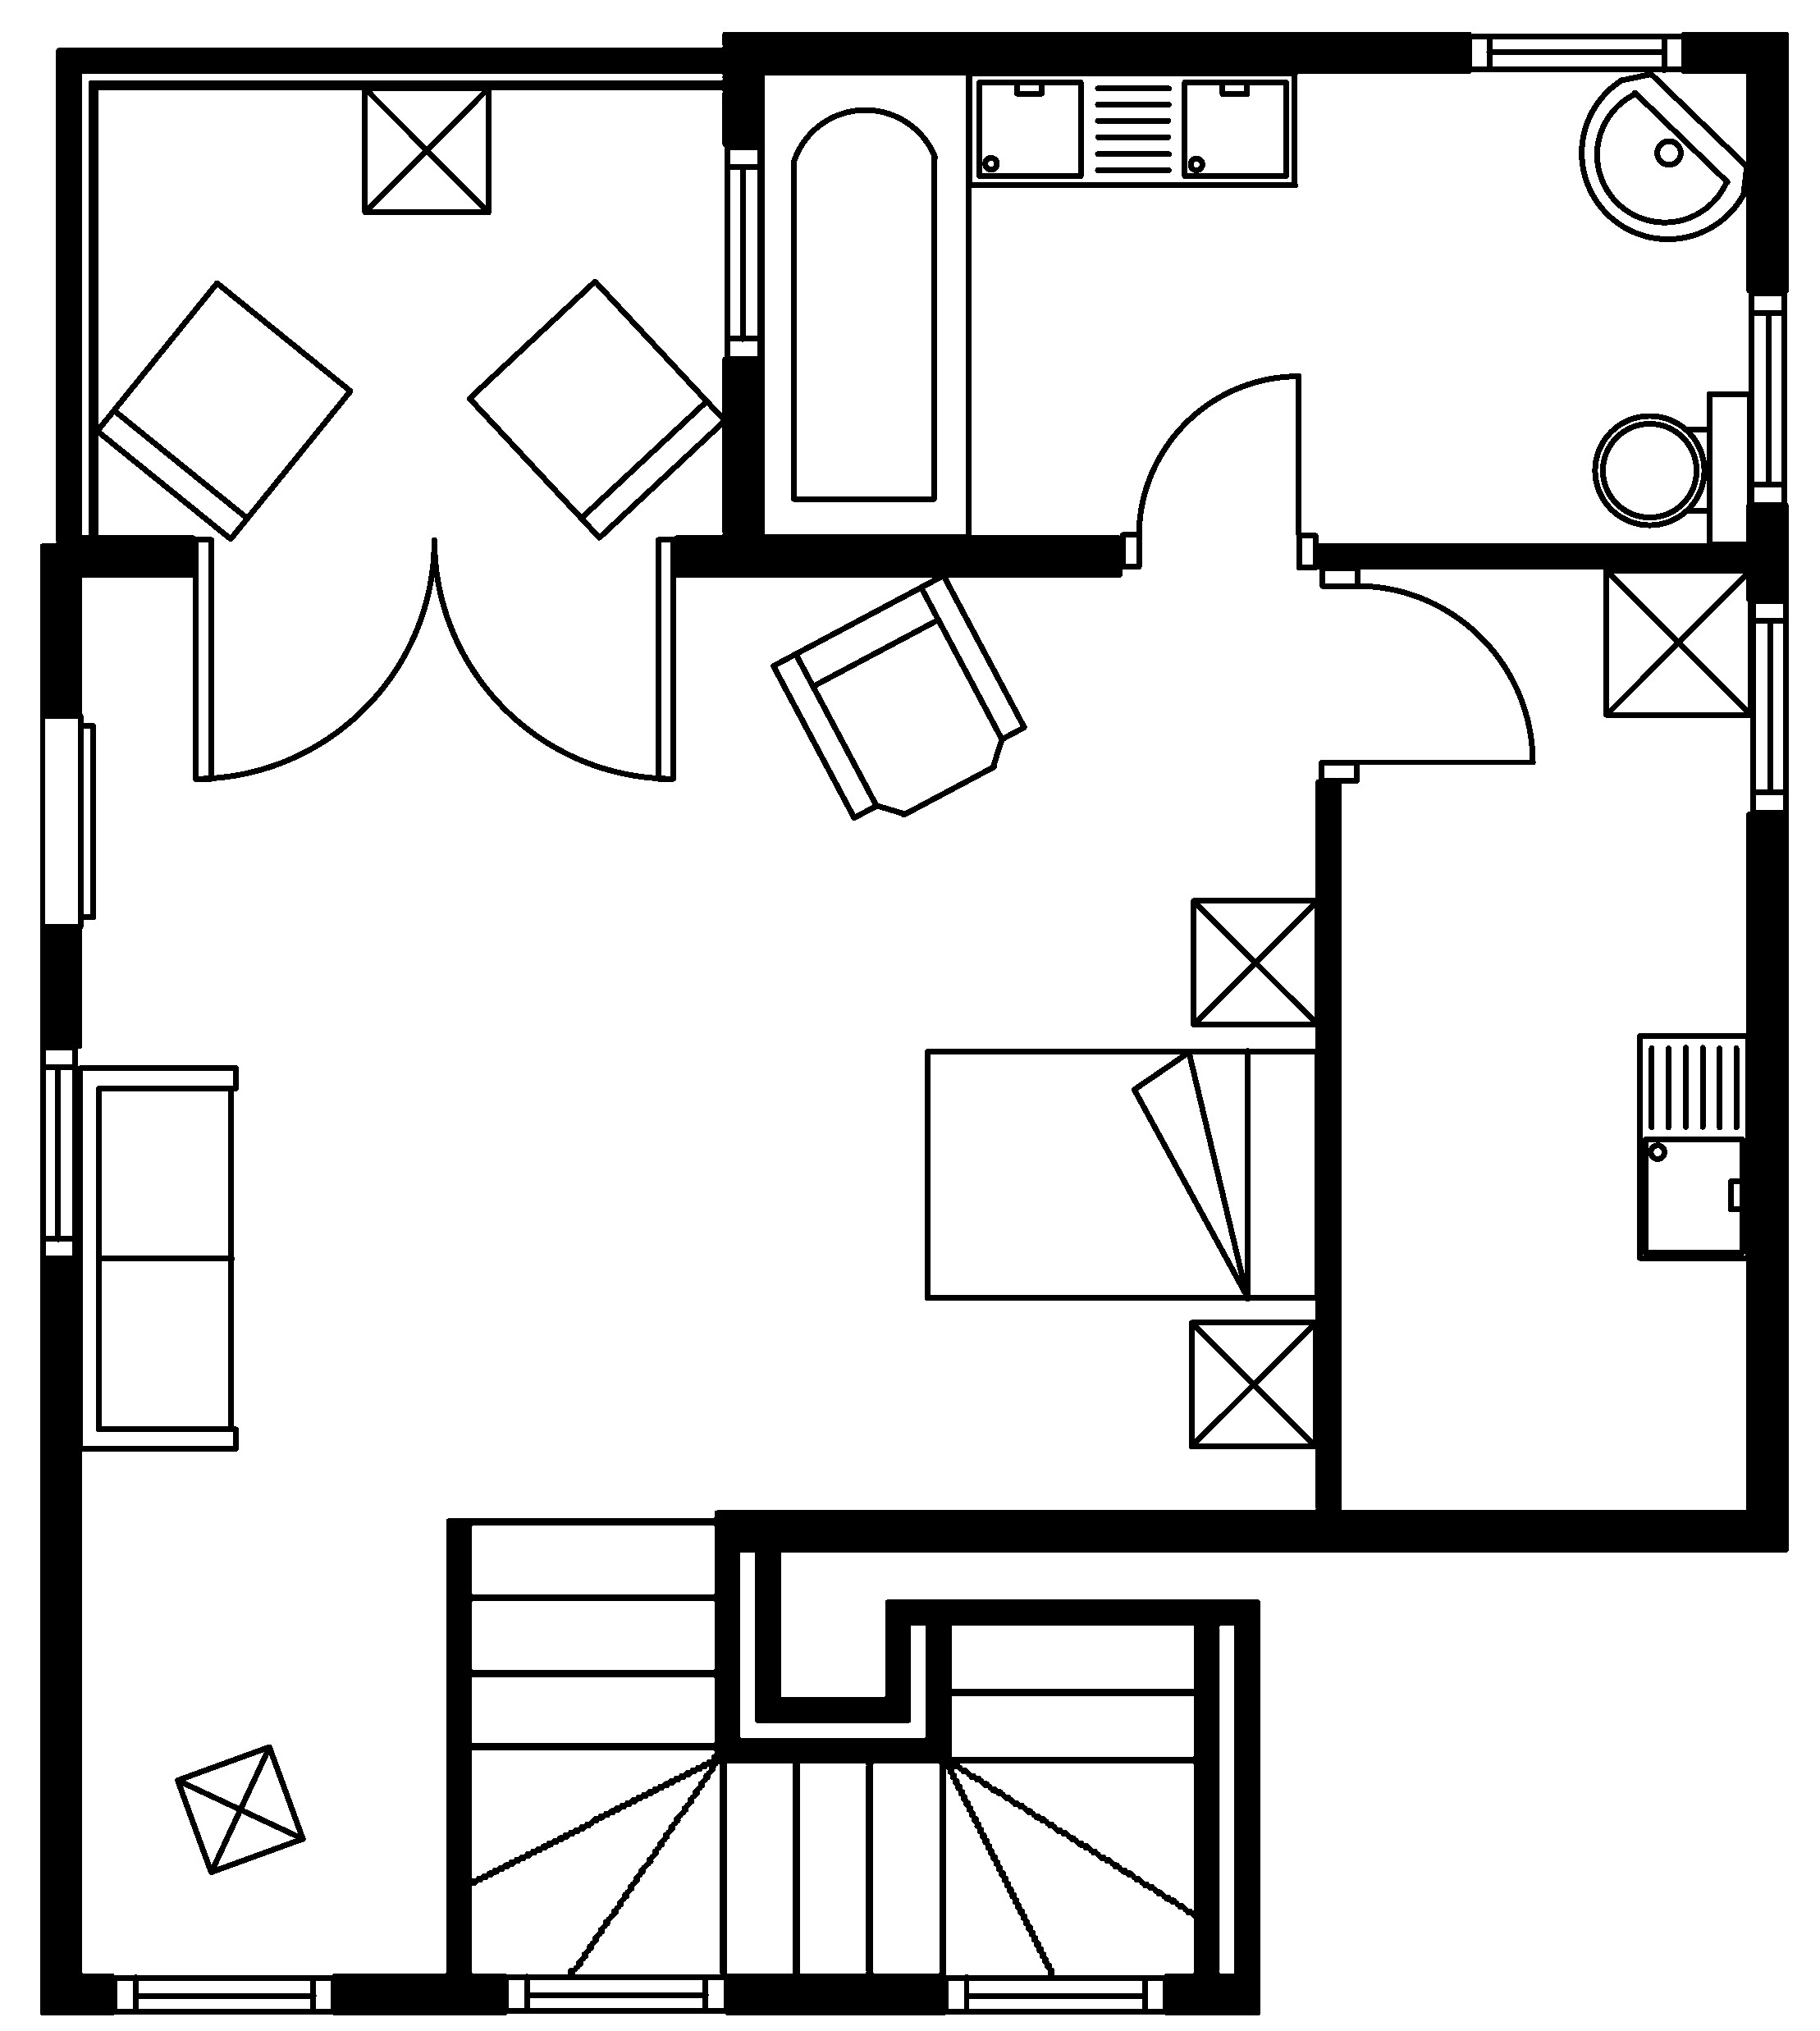armchair: (769, 571, 1028, 820)
bed: (922, 1047, 1321, 1302)
coffee_table: (1602, 566, 1753, 719), (1186, 1318, 1319, 1449), (174, 1743, 306, 1875), (1189, 896, 1321, 1028), (360, 84, 492, 214)
large_sink: (1592, 388, 1753, 548)
large_sofa: (76, 1063, 239, 1451)
sink: (1636, 1031, 1751, 1261)
small_sink: (1578, 70, 1750, 241)
small_sofa: (466, 276, 727, 541), (93, 278, 353, 543)
tub: (757, 69, 971, 539)
twin_sink: (964, 69, 1298, 188)
